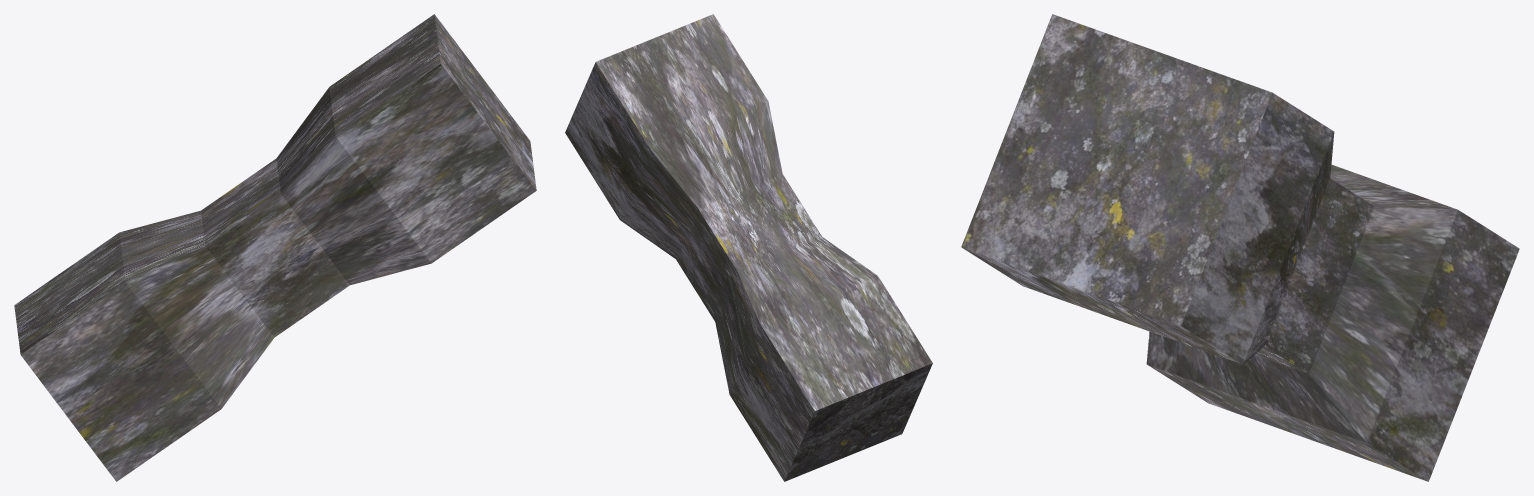
The model's file is hourglass.fbx.
The picture shows the model from 3 angles, left to right: view 1: azimuth 30°, elevation 25°; view 2: azimuth 150°, elevation 25°; view 3: azimuth 270°, elevation 25°; orthographic projection. The views are drawn at different scales.
Visible parts, largest first — view 1: time; view 2: time; view 3: time.
Boxes of the visible parts, x1,y1,x2,y2 form: time: (14,14,536,481); time: (565,14,932,481); time: (961,14,1519,481).
Size of the model in its own units: 12.93 by 10.72 by 8.73.
1 material, 1 textured.
